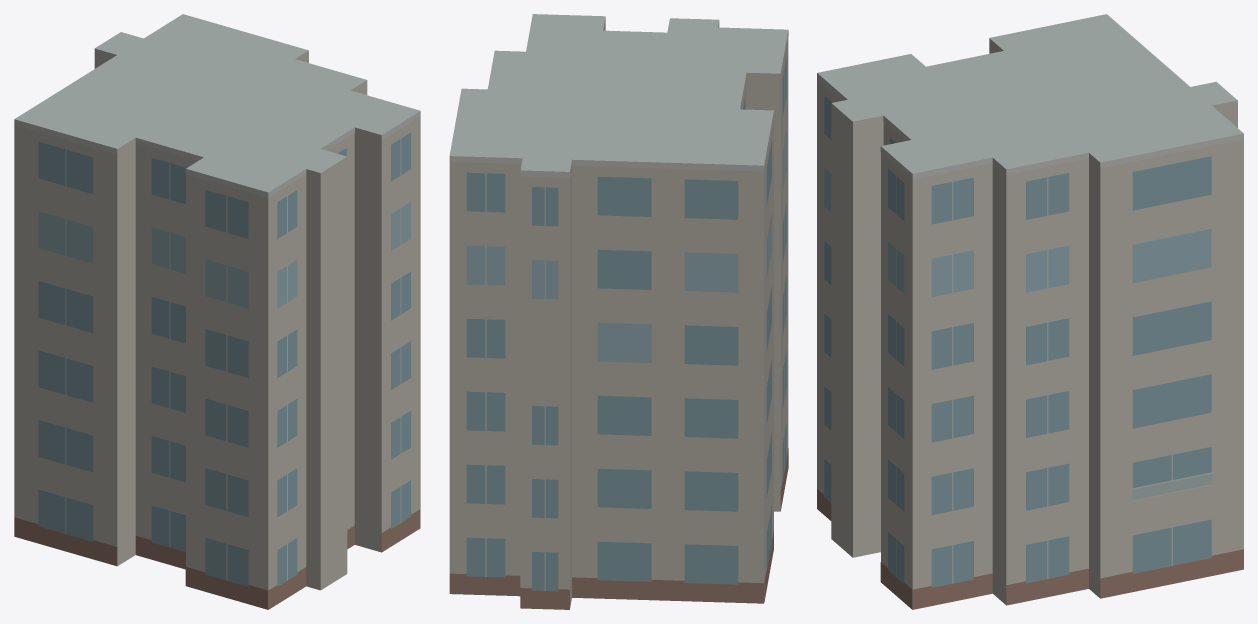
The model's file is survey-upis-32658372.glb.
The picture shows the model from 3 angles, left to right: view 1: azimuth 30°, elevation 25°; view 2: azimuth 150°, elevation 25°; view 3: azimuth 270°, elevation 25°; orthographic projection. The views are drawn at different scales.
Visible parts, largest first — view 1: survey-upis-32658372.tmp; view 2: survey-upis-32658372.tmp; view 3: survey-upis-32658372.tmp.
Boxes of the visible parts, bbox=[...] form: survey-upis-32658372.tmp: bbox=[14, 14, 420, 609]; survey-upis-32658372.tmp: bbox=[449, 14, 788, 609]; survey-upis-32658372.tmp: bbox=[817, 14, 1243, 609].
Size of the model in its own units: 14.39 by 18.3 by 16.24.
